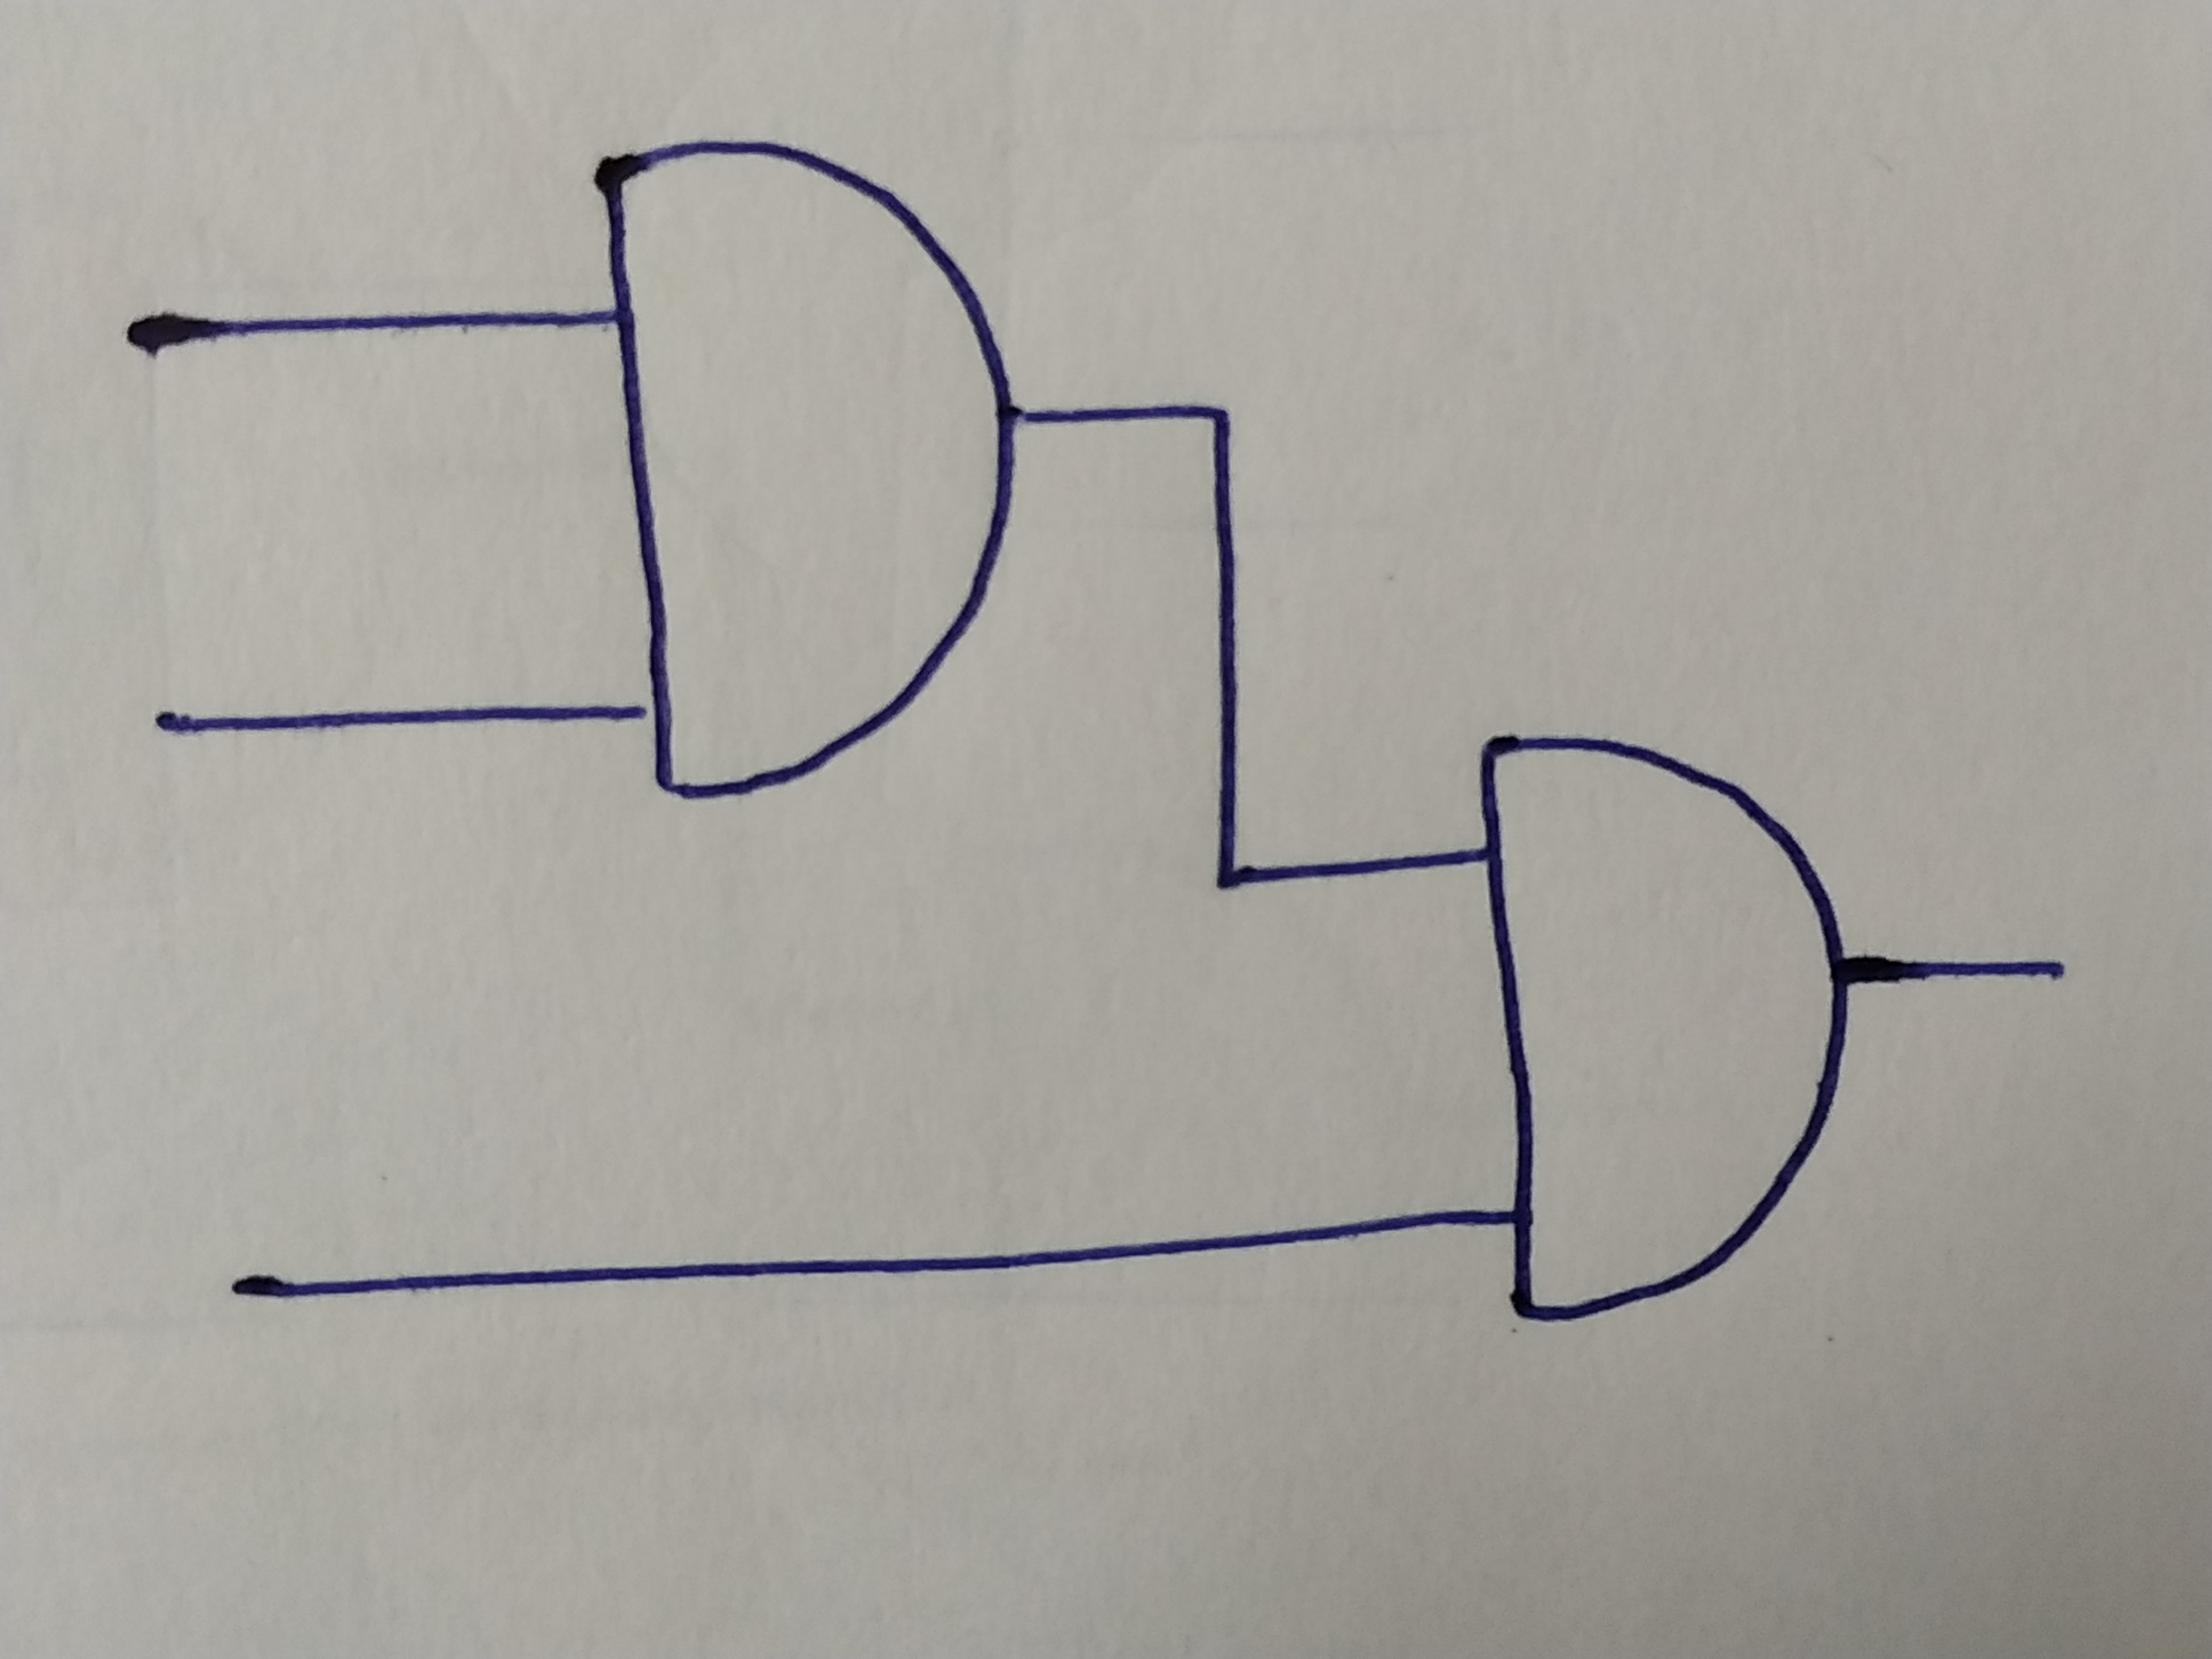and: (606, 145, 1015, 795), (1486, 728, 1848, 1323)
